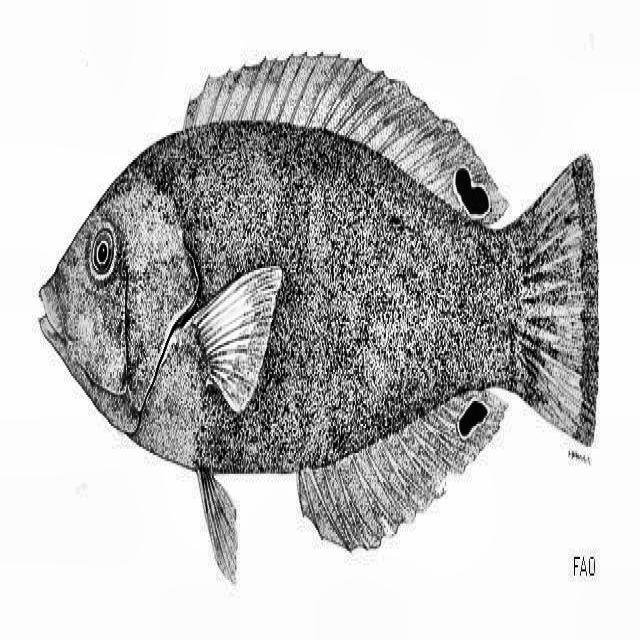fish: (38, 52, 600, 589)
